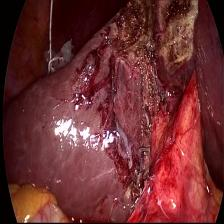Specimen Bag: (40, 40, 78, 72)
